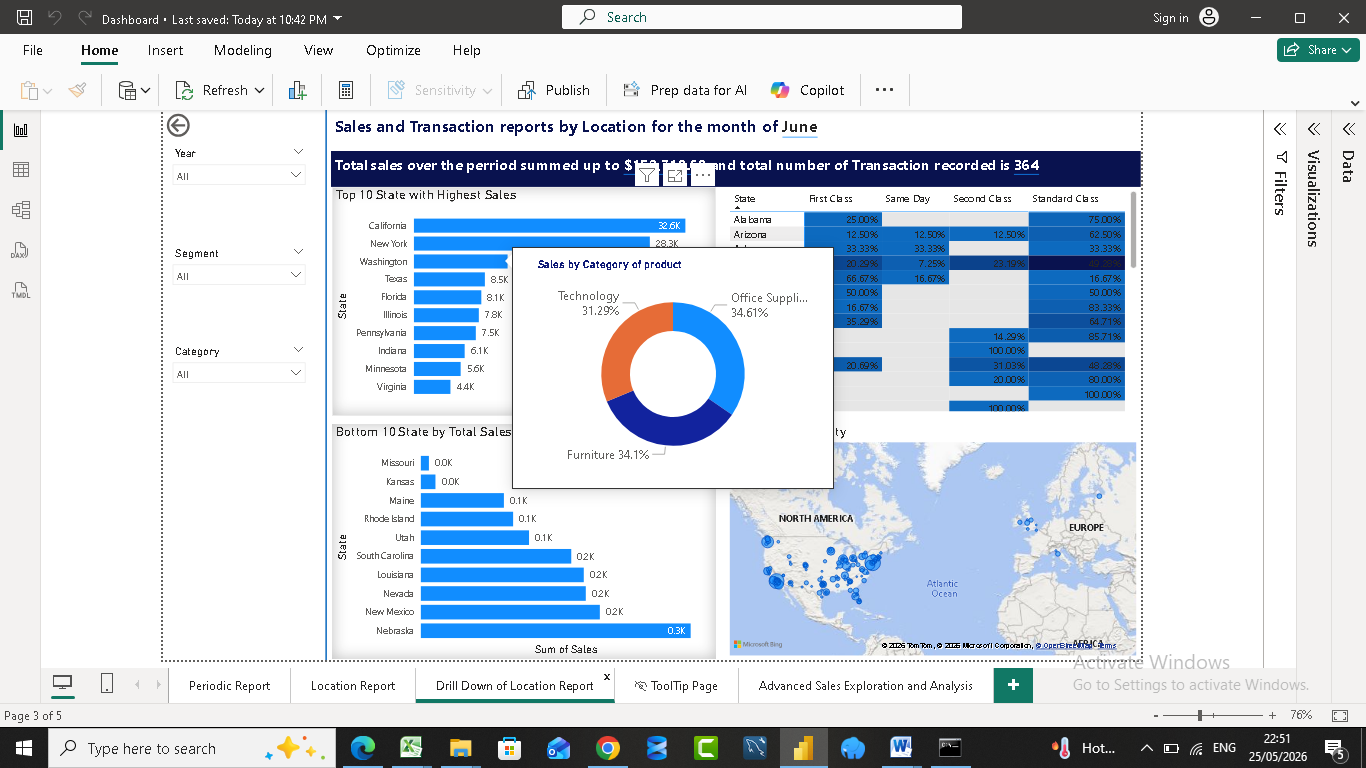

The dashboard page shown, as its layout file describes it:
{"tool":"powerbi","page":{"name":"Drill Down of Location Report","canvas":[1280,720],"ordinal":2},"visuals":[{"type":"shape","box":[206.6,0,13.4,720.6],"z":0},{"type":"textbox","box":[220.1,0,1059.9,65.5],"z":1000},{"type":"textbox","box":[220.1,53.8,1059.9,47],"z":2000},{"type":"slicer","fields":{"Values":["Orders.Order Date.Variation.Date Hierarchy.Year"]},"box":[2.8,43.1,194.4,79.2],"z":3000},{"type":"slicer","fields":{"Values":["Orders.Category"]},"box":[2.8,302.8,194.4,79.2],"z":4000},{"type":"slicer","fields":{"Values":["Orders.Segment"]},"box":[2.8,173.6,194.4,77.8],"z":5000},{"type":"barChart","title":"Top 10 State with Highest Sales","fields":{"Category":["Orders.State"],"Y":["Sum(Orders.Sales)"]},"box":[220.8,101.4,502.8,298.6],"z":6000},{"type":"barChart","title":"Bottom 10 State by Total Sales","fields":{"Category":["Orders.State"],"Y":["Sum(Orders.Sales)"]},"box":[220.8,411.1,502.8,308.3],"z":7000},{"type":"pivotTable","fields":{"Rows":["Orders.State"],"Values":["Min(Orders.Order ID)"],"Columns":["Orders.Ship Mode"]},"box":[737.5,101.4,543.1,298.6],"z":8000},{"type":"map","fields":{"Category":["Orders.City"],"Size":["Sum(Orders.Sales)"]},"box":[737.5,411.1,541.7,308.3],"z":9000},{"type":"actionButton","box":[0,0,100,40],"z":10000}]}

Visuals, with their boxes on the page's 1280x720 design canvas (x1, y1, x2, y2). These are canvas units, not pixel positions in the 1366x768 screenshot, which may show the page scaled, cropped or inside an application window:
shape: x1=207, y1=0, x2=220, y2=721
textbox: x1=220, y1=0, x2=1280, y2=66
textbox: x1=220, y1=54, x2=1280, y2=101
slicer - Orders.Order Date.Variation.Date Hierarchy.Year: x1=3, y1=43, x2=197, y2=122
slicer - Orders.Category: x1=3, y1=303, x2=197, y2=382
slicer - Orders.Segment: x1=3, y1=174, x2=197, y2=251
"Top 10 State with Highest Sales" barChart: x1=221, y1=101, x2=724, y2=400
"Bottom 10 State by Total Sales" barChart: x1=221, y1=411, x2=724, y2=719
pivotTable - Orders.State x Min(Orders.Order ID): x1=738, y1=101, x2=1281, y2=400
map - Orders.City x Sum(Orders.Sales): x1=738, y1=411, x2=1279, y2=719
actionButton: x1=0, y1=0, x2=100, y2=40
